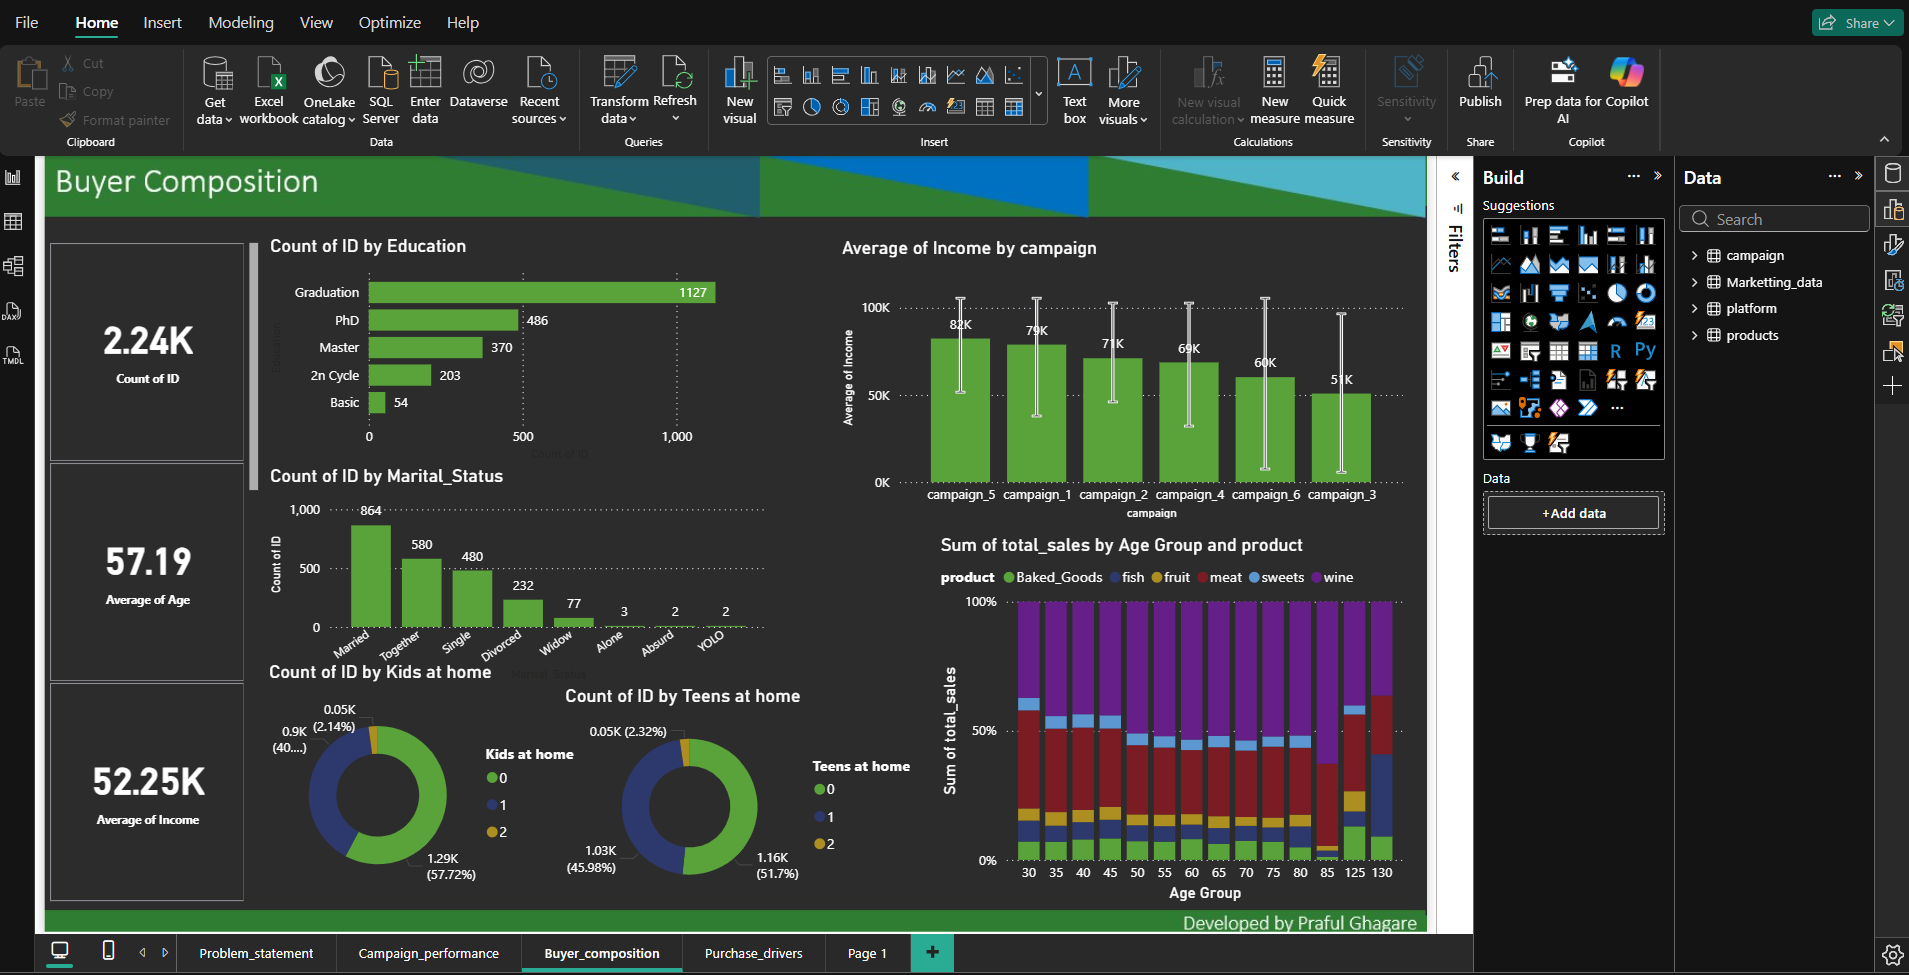

The dashboard page shown, as its layout file describes it:
{"tool":"powerbi","page":{"name":"Buyer_composition","canvas":[1280,720],"ordinal":2},"visuals":[{"type":"barChart","fields":{"Category":["Marketting_data.Education"],"Y":["CountNonNull(Marketting_data.ID)"]},"box":[204,74,469.4,212.4],"z":0},{"type":"clusteredColumnChart","fields":{"Y":["CountNonNull(Marketting_data.ID)"],"Category":["Marketting_data.Marital_Status"]},"box":[204,286.4,469.4,202.6],"z":1000},{"type":"donutChart","fields":{"Y":["CountNonNull(Marketting_data.ID)"],"Category":["Marketting_data.Kidhome"]},"box":[203.6,467.6,310.2,228.5],"z":2000},{"type":"donutChart","fields":{"Y":["CountNonNull(Marketting_data.ID)"],"Category":["Marketting_data.Teenhome"]},"box":[478.3,490.1,346.9,204.8],"z":3000},{"type":"clusteredColumnChart","fields":{"Category":["campaign.campaign"],"Y":["Avg(Marketting_data. Income )"]},"box":[734,74.6,529.2,265.2],"z":4000},{"type":"hundredPercentStackedColumnChart","fields":{"Y":["Sum(products.total_sales)"],"Series":["products.product"],"Category":["Marketting_data.Age Group"]},"box":[825.1,350.4,438,344.5],"z":5000},{"type":"cardVisual","fields":{"Data":["CountNonNull(Marketting_data.ID)","Avg(Marketting_data.Age)","Avg(Marketting_data. Income )","Sum(Marketting_data.Purchase_catelog)","Sum(Marketting_data.Purchase_Deal)","Sum(Marketting_data.Purchase_store)","Sum(Marketting_data.Purchase_web)","Sum(Marketting_data.Number_visit_websites)"]},"box":[0,74.9,203.7,621.5],"z":6000}]}

Visuals, with their boxes on the page's 1280x720 design canvas (x1, y1, x2, y2). These are canvas units, not pixel positions in the 1909x975 screenshot, which may show the page scaled, cropped or inside an application window:
barChart - Marketting_data.Education x CountNonNull(Marketting_data.ID): [left=204, top=74, right=673, bottom=286]
clusteredColumnChart - CountNonNull(Marketting_data.ID) x Marketting_data.Marital_Status: [left=204, top=286, right=673, bottom=489]
donutChart - CountNonNull(Marketting_data.ID) x Marketting_data.Kidhome: [left=204, top=468, right=514, bottom=696]
donutChart - CountNonNull(Marketting_data.ID) x Marketting_data.Teenhome: [left=478, top=490, right=825, bottom=695]
clusteredColumnChart - campaign.campaign x Avg(Marketting_data. Income ): [left=734, top=75, right=1263, bottom=340]
hundredPercentStackedColumnChart - Sum(products.total_sales) x products.product: [left=825, top=350, right=1263, bottom=695]
cardVisual - CountNonNull(Marketting_data.ID) x Avg(Marketting_data.Age): [left=0, top=75, right=204, bottom=696]
